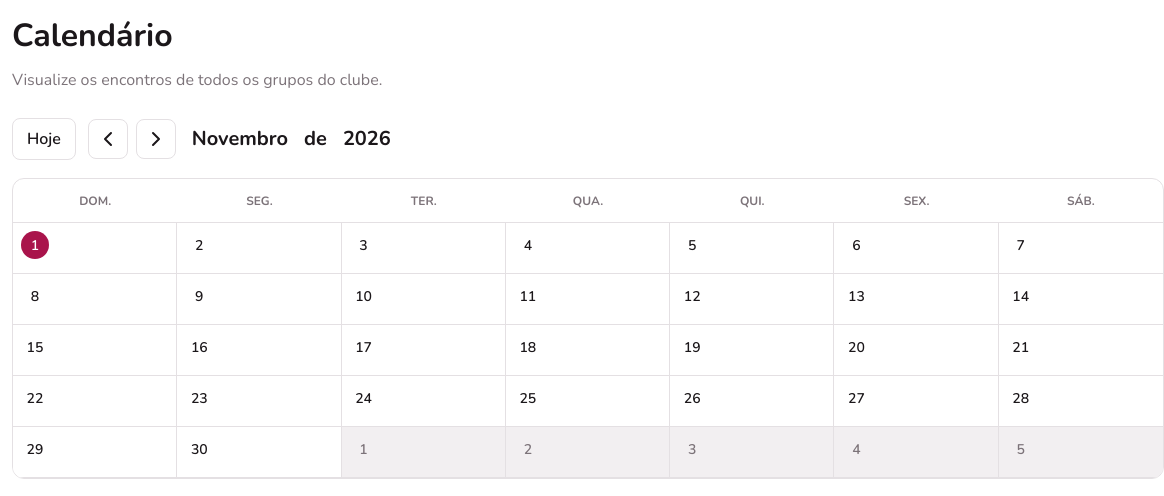
Test case: Calendar › cancela a edição do ano com Escape
Click the button named "Editar ano" at (367, 139), box [335, 116, 399, 162]
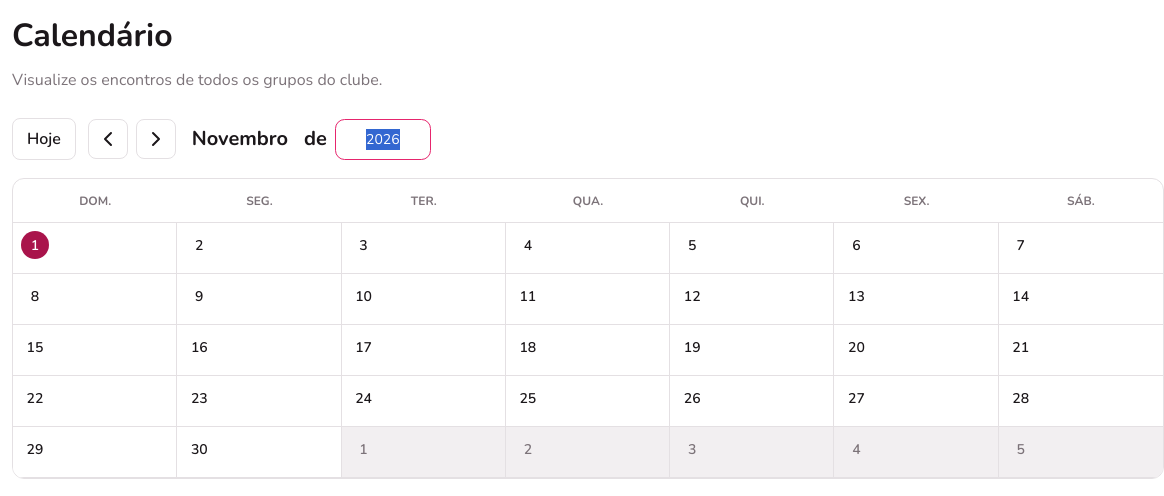
Replace the text in the field named "Ano" with "2030" at (383, 139), box [352, 128, 414, 150]
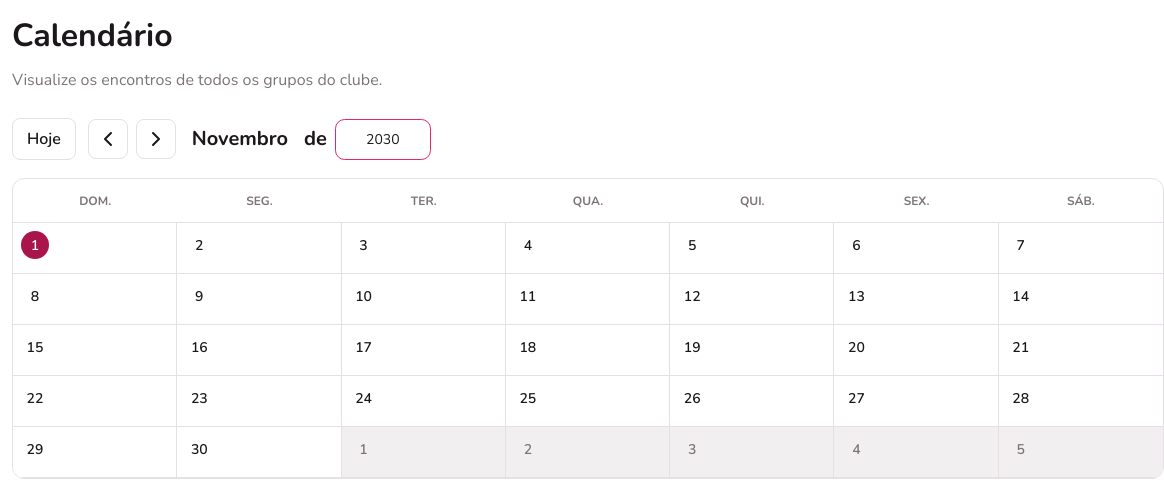
Press Escape
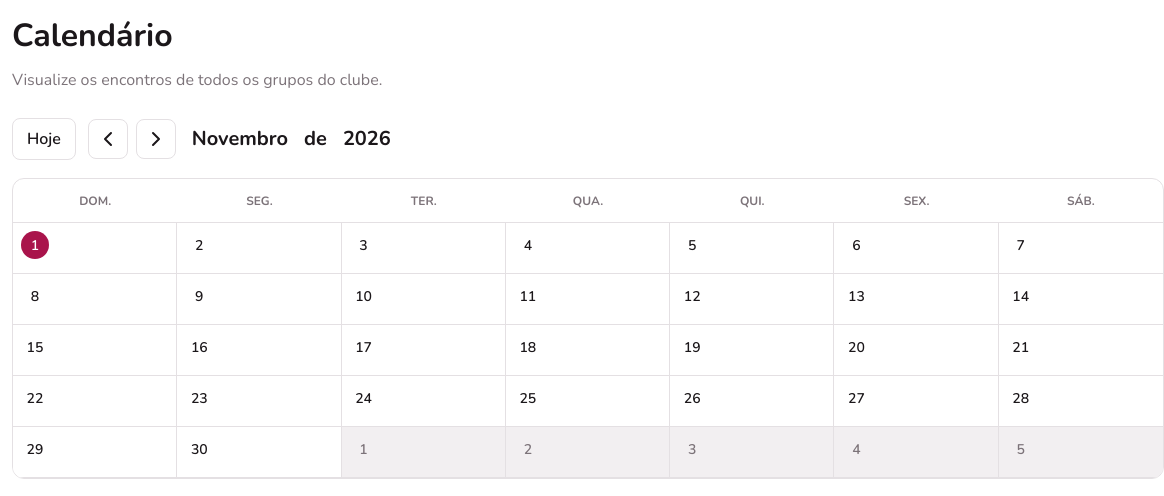
expect the button named "Editar ano" reads "2026": met, box [335, 116, 399, 162]
